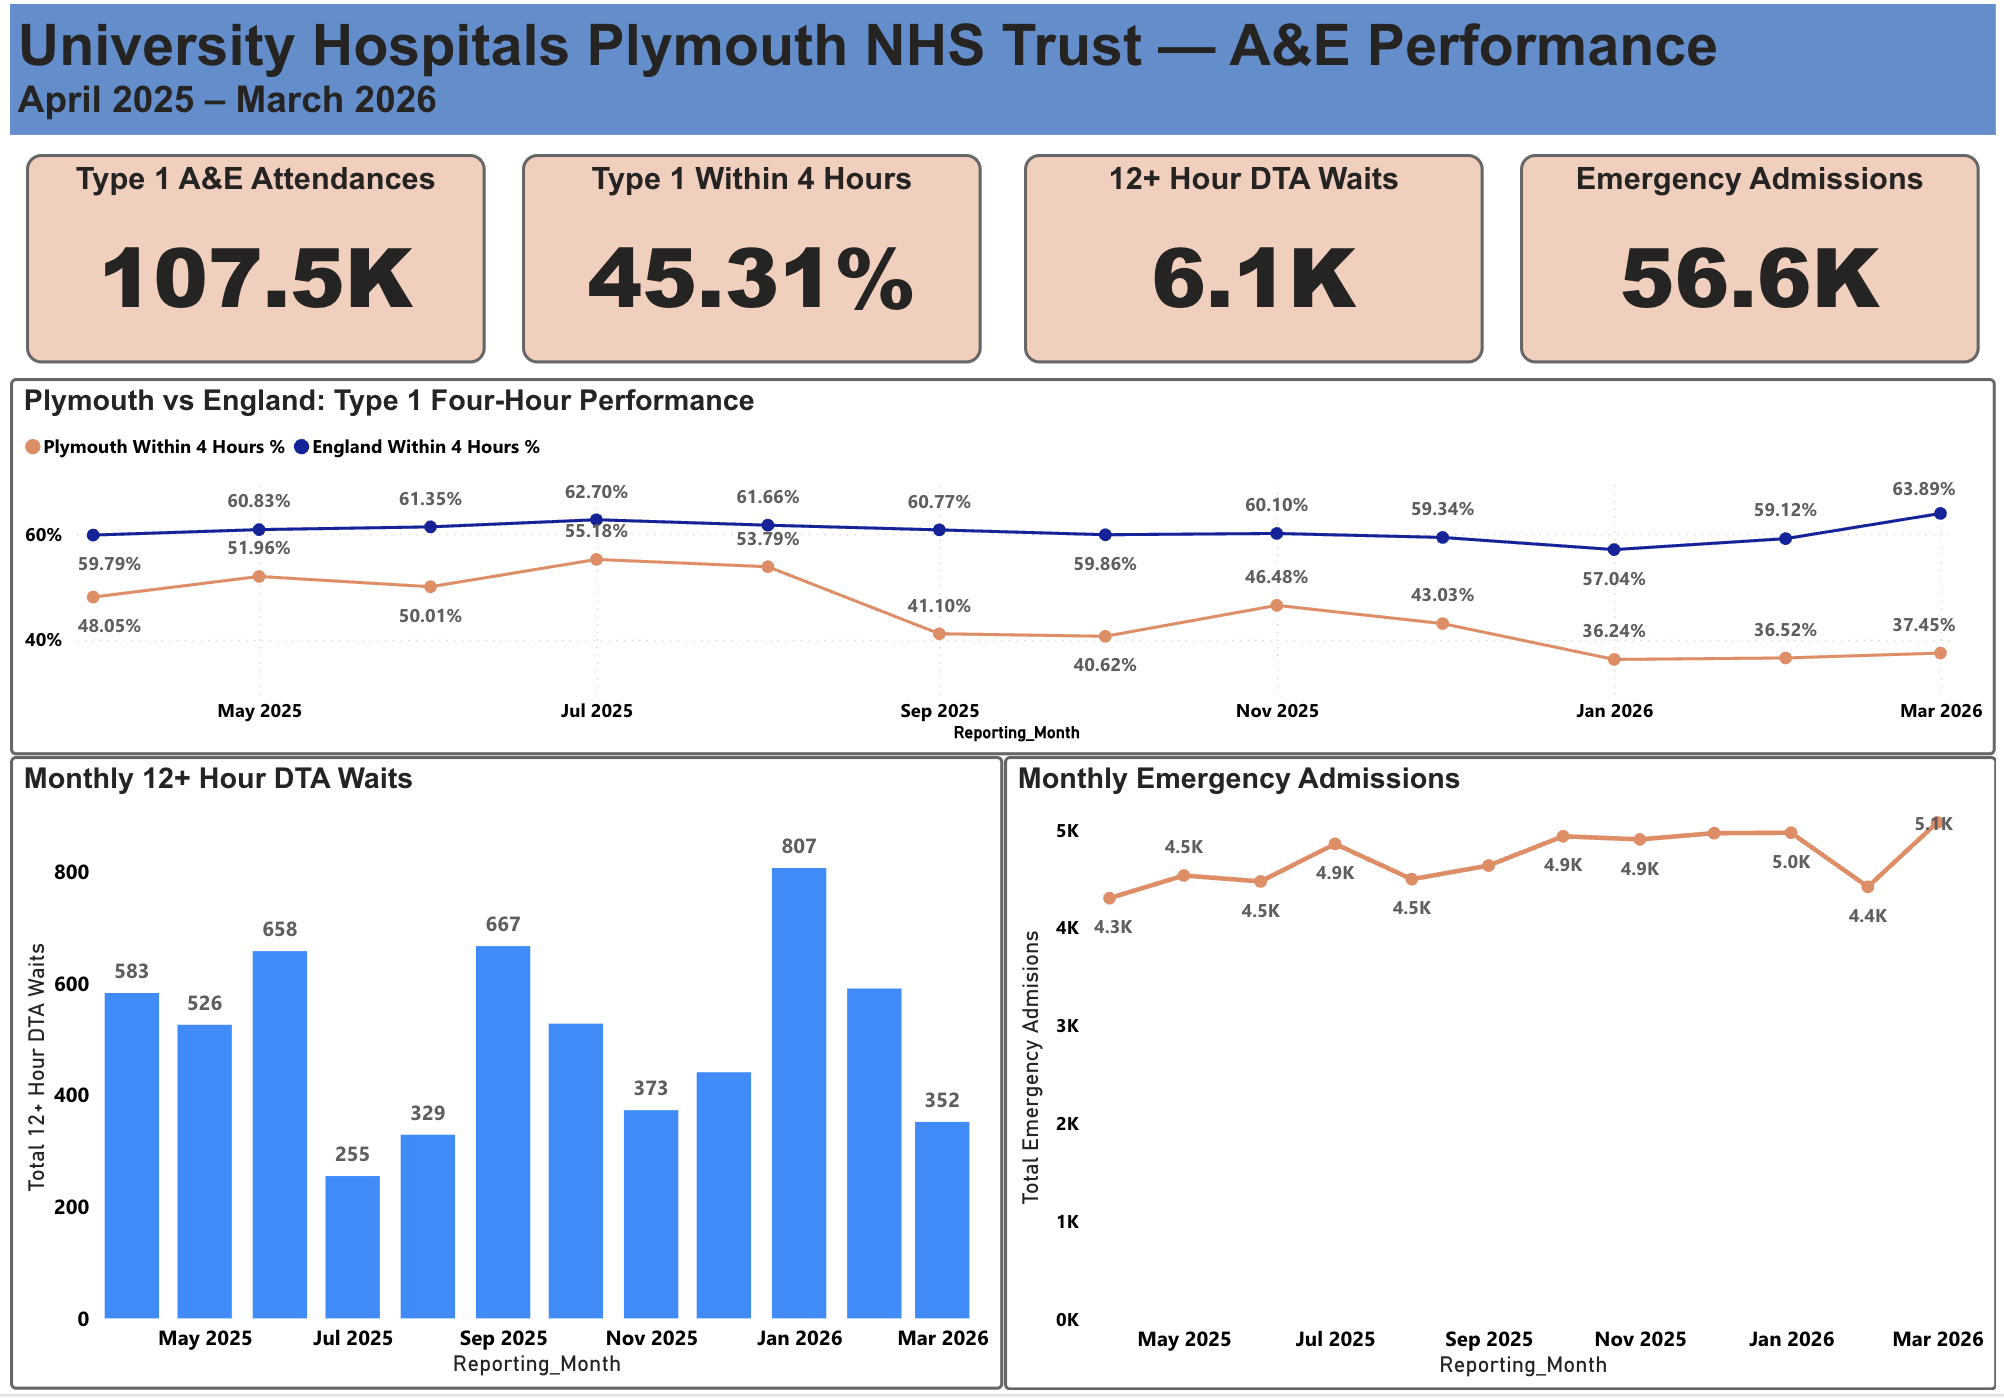

What the dashboard file says about the page in this screenshot:
{"tool":"powerbi","page":{"name":"Plymouth NHS Trust","canvas":[1290,900],"ordinal":2},"visuals":[{"type":"textbox","box":[0,0,1289.6,85.1],"z":0},{"type":"card","title":"Type 1 A&E Attendances","fields":{"Values":["NHS_AE_Data.Total Type 1 Attendances"]},"box":[10.4,97,298.5,135.8],"z":1000},{"type":"card","title":"Type 1 Within 4 Hours","fields":{"Values":["NHS_AE_Data.Within 4 Hours %"]},"box":[332.8,97,298.5,135.8],"z":2000},{"type":"card","title":"12+ Hour DTA Waits","fields":{"Values":["NHS_AE_Data.Total 12+ Hour DTA Waits"]},"box":[658.2,97,298.5,135.8],"z":3000},{"type":"card","title":"Emergency Admissions","fields":{"Values":["NHS_AE_Data.Total Emergency Admisions"]},"box":[980.6,97,298.5,135.8],"z":4000},{"type":"lineChart","title":"Plymouth vs England: Type 1 Four-Hour Performance","fields":{"Y":["NHS_AE_Data.Within 4 Hours %","NHS_AE_Data.England Within 4 Hours %"],"Category":["NHS_AE_Data.Reporting_Month"]},"box":[0,243.3,1289.6,244.8],"z":5000},{"type":"clusteredColumnChart","title":"Monthly 12+ Hour DTA Waits","fields":{"Y":["NHS_AE_Data.Total 12+ Hour DTA Waits"],"Category":["NHS_AE_Data.Reporting_Month"]},"box":[0,488.3,645,411.7],"z":6000},{"type":"lineChart","title":"Monthly Emergency Admissions","fields":{"Y":["NHS_AE_Data.Total Emergency Admisions"],"Category":["NHS_AE_Data.Reporting_Month"]},"box":[645,488,645,412],"z":7000}]}

Visuals, with their boxes in screenshot pixels (x1, y1, x2, y2), scaled from the page's 1290x900 canvas onto the 2004x1398 screenshot:
textbox: (x1=0, y1=0, x2=2003, y2=132)
"Type 1 A&E Attendances" card: (x1=16, y1=151, x2=480, y2=362)
"Type 1 Within 4 Hours" card: (x1=517, y1=151, x2=981, y2=362)
"12+ Hour DTA Waits" card: (x1=1023, y1=151, x2=1486, y2=362)
"Emergency Admissions" card: (x1=1523, y1=151, x2=1987, y2=362)
"Plymouth vs England: Type 1 Four-Hour Performance" lineChart: (x1=0, y1=378, x2=2003, y2=758)
"Monthly 12+ Hour DTA Waits" clusteredColumnChart: (x1=0, y1=758, x2=1002, y2=1397)
"Monthly Emergency Admissions" lineChart: (x1=1002, y1=758, x2=2003, y2=1397)
